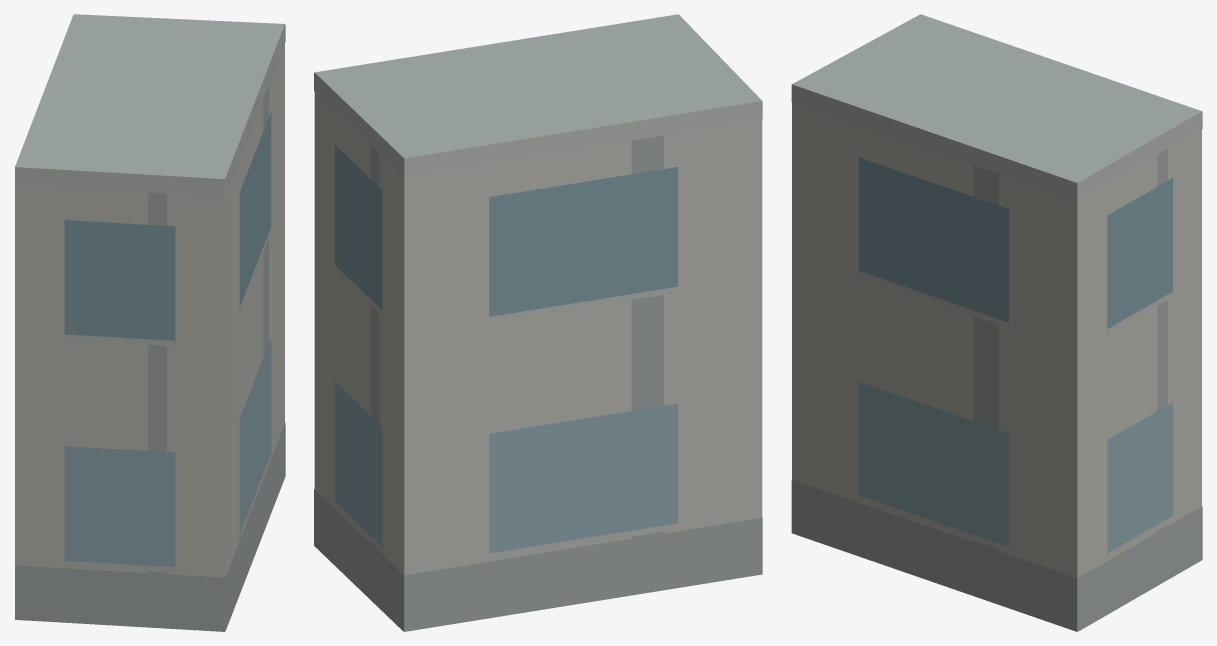
The model's file is survey-upis-32646968.glb.
The picture shows the model from 3 angles, left to right: view 1: azimuth 30°, elevation 25°; view 2: azimuth 150°, elevation 25°; view 3: azimuth 270°, elevation 25°; orthographic projection. The views are drawn at different scales.
Parts seen in each view (by area): view 1: survey-upis-32646968.tmp; view 2: survey-upis-32646968.tmp; view 3: survey-upis-32646968.tmp.
Part boxes in pixels (x1,y1,x2,y2): survey-upis-32646968.tmp: (15,14,285,631); survey-upis-32646968.tmp: (314,14,762,631); survey-upis-32646968.tmp: (791,14,1202,631).
Size of the model in its own units: 4.93 by 6.1 by 5.06.
